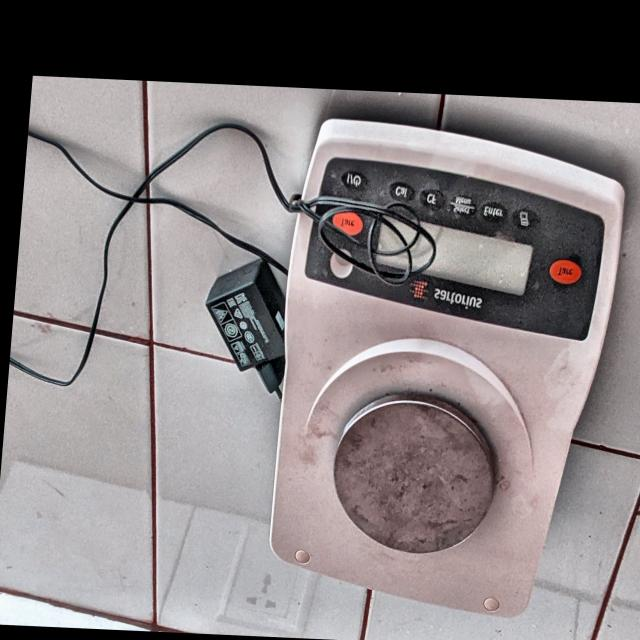Electronic Balance: (246, 113, 634, 609)
